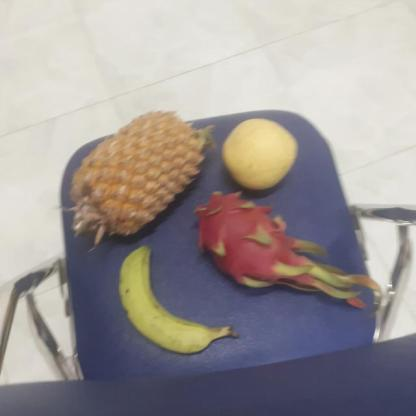banana: (120, 248, 240, 356)
pear: (219, 116, 300, 192)
pineapple: (72, 108, 217, 244)
pitaya: (199, 192, 303, 290)
